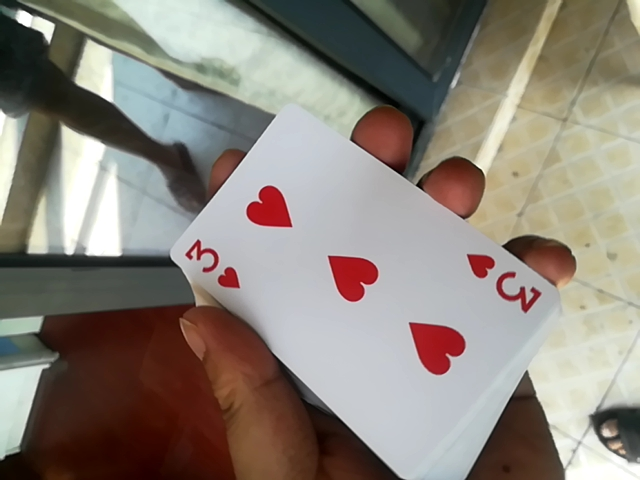hx 3: (139, 96, 544, 479)
